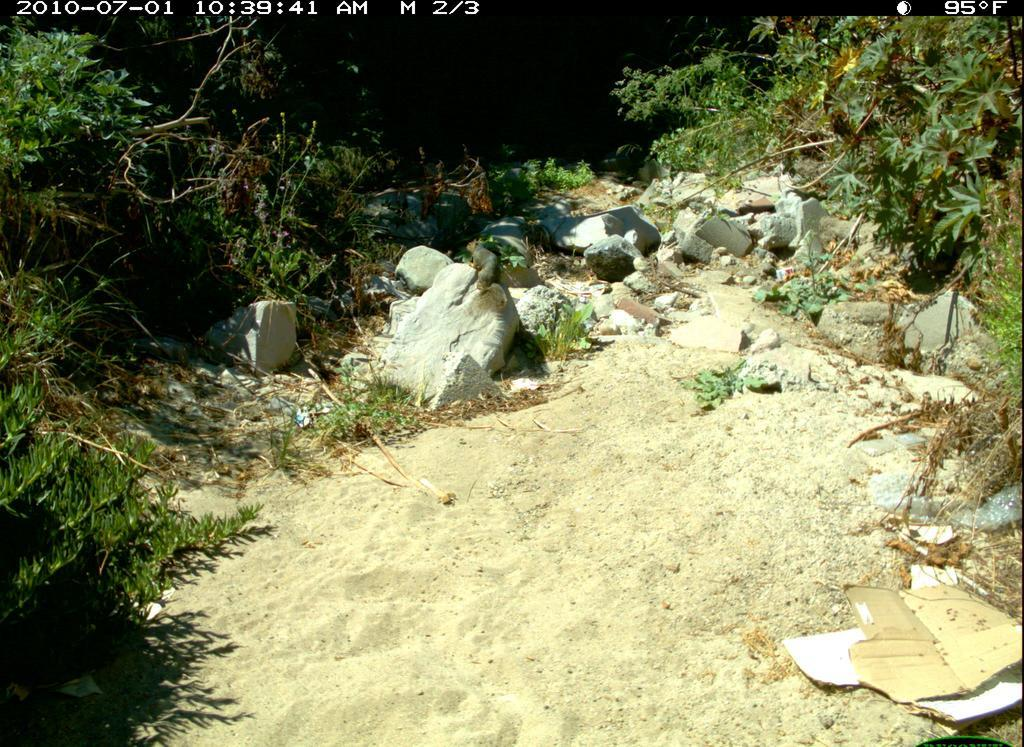squirrel: (466, 236, 508, 311)
